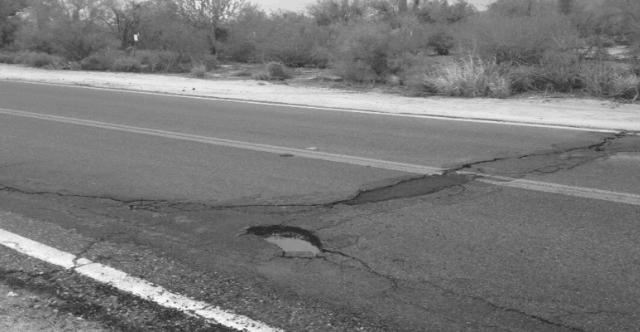Pothole: (244, 214, 320, 274)
